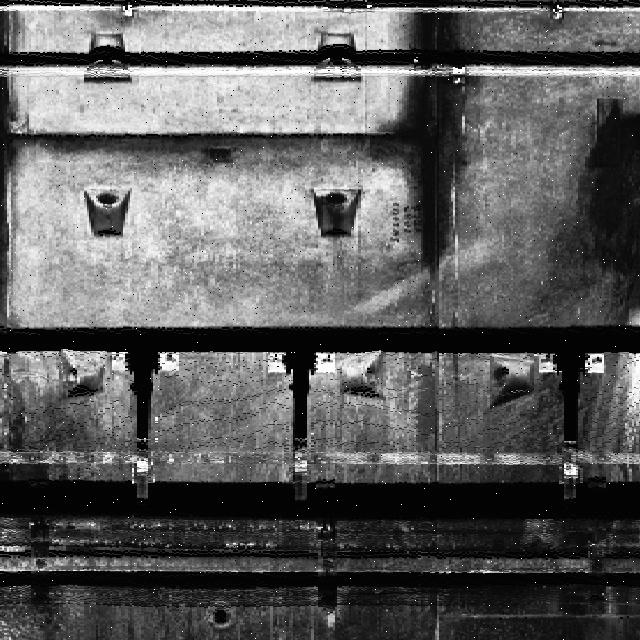leakage: (364, 0, 488, 277), (545, 96, 637, 325)
